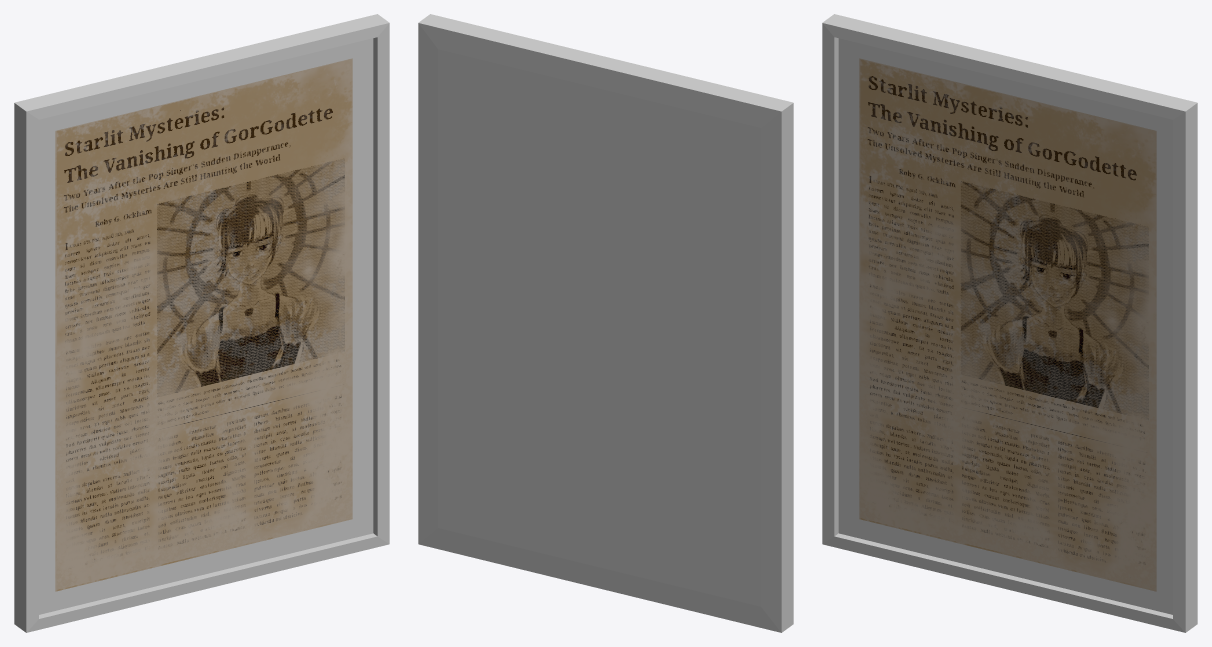
Rendered from PictureFrameGorGodette.glb.
3 renders of one model, left to right at view 1: azimuth 30°, elevation 25°; view 2: azimuth 150°, elevation 25°; view 3: azimuth 330°, elevation 25°, orthographic.
Visible parts, largest first — view 1: Cube; view 2: Cube; view 3: Cube.
Part boxes in pixels (x1=…): Cube: x1=14, y1=14, x2=389, y2=632; Cube: x1=418, y1=14, x2=793, y2=632; Cube: x1=822, y1=14, x2=1197, y2=632.
Size of the model in its own units: 1.04 by 1.42 by 0.0624.
Materials: 2 (1 with a texture image).
